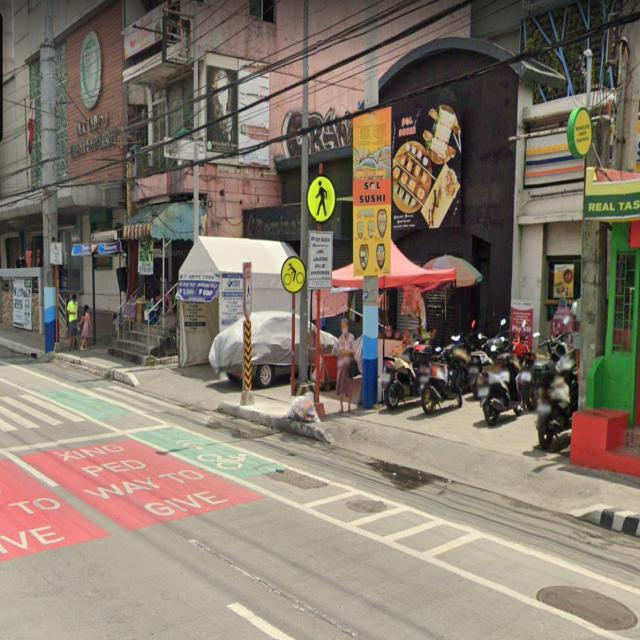bike lane: (281, 256, 306, 293)
pedestrian crossing: (306, 174, 336, 224)
